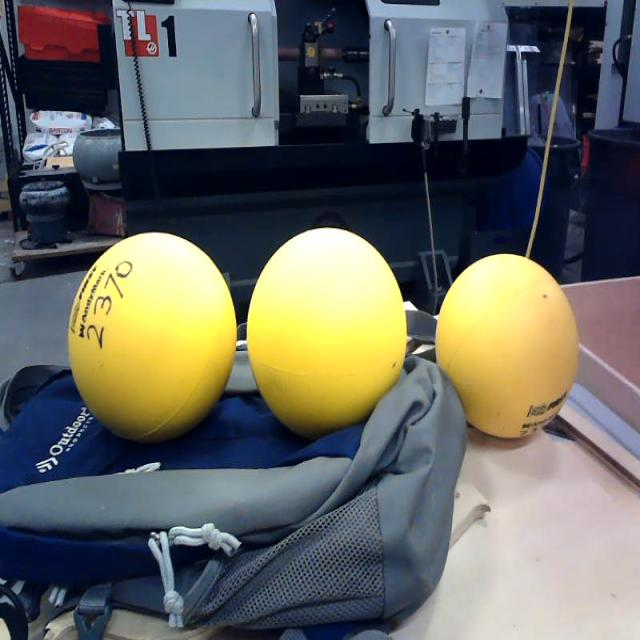Fuel: (67, 232, 238, 444), (246, 227, 407, 443), (435, 252, 579, 438)
